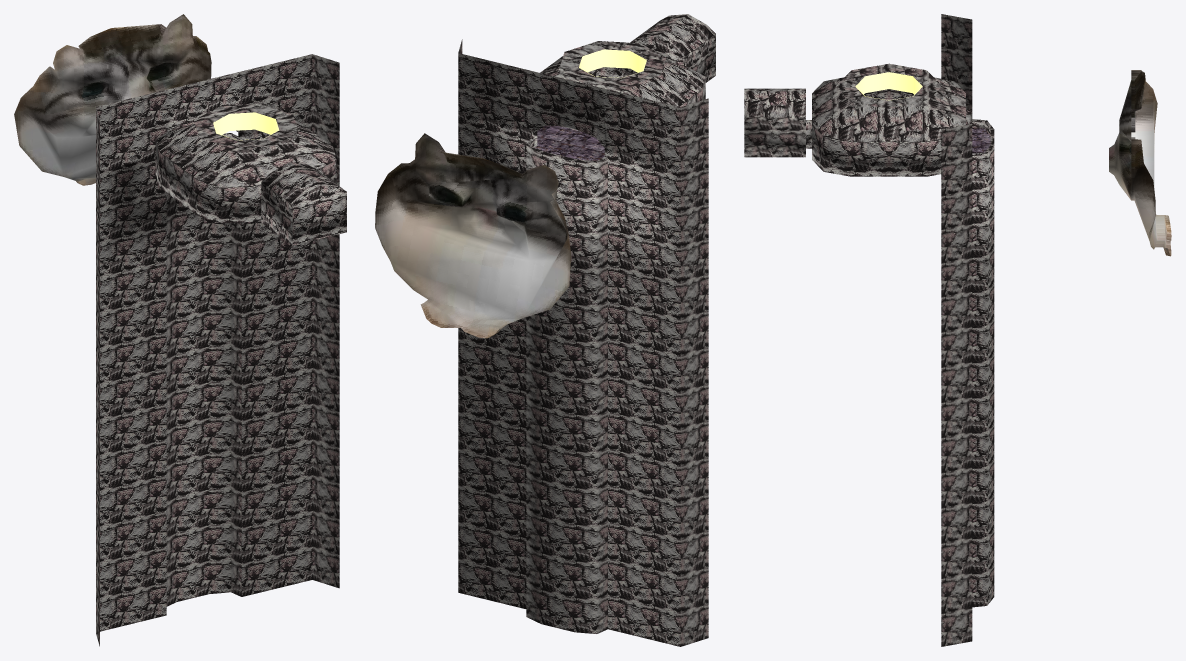
Rendered from demoLevel.glb.
The picture shows the model from 3 angles, left to right: view 1: azimuth 30°, elevation 25°; view 2: azimuth 150°, elevation 25°; view 3: azimuth 270°, elevation 25°; orthographic projection. The views are drawn at different scales.
Parts seen in each view (by area): view 1: rooms, god, sunShaft; view 2: rooms, god, sunShaft; view 3: rooms, god, sunShaft.
Part boxes in pixels (bbox=[...]): rooms: bbox=[96, 54, 346, 646]; god: bbox=[14, 14, 211, 185]; sunShaft: bbox=[213, 112, 279, 140]; rooms: bbox=[458, 14, 715, 646]; god: bbox=[375, 133, 571, 338]; sunShaft: bbox=[579, 49, 646, 78]; rooms: bbox=[744, 14, 994, 646]; god: bbox=[1109, 70, 1171, 256]; sunShaft: bbox=[855, 72, 922, 100].
Size of what is drawn, in the model's own units: 44.27 by 92.78 by 69.37.
4 materials, 4 textured.
